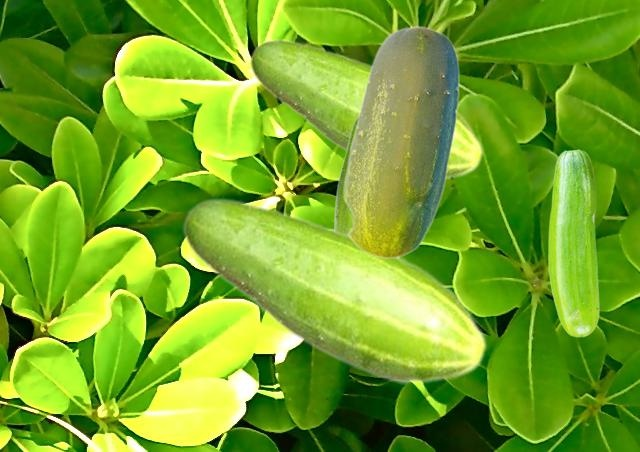cucumber: (182, 197, 487, 385), (249, 38, 483, 182), (342, 25, 458, 258), (548, 149, 598, 336), (333, 117, 356, 232)
